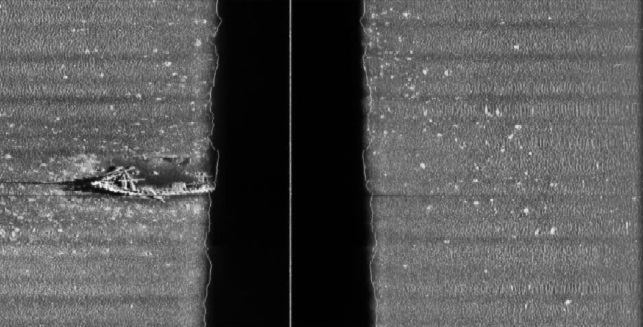ship: (86, 164, 217, 202)
